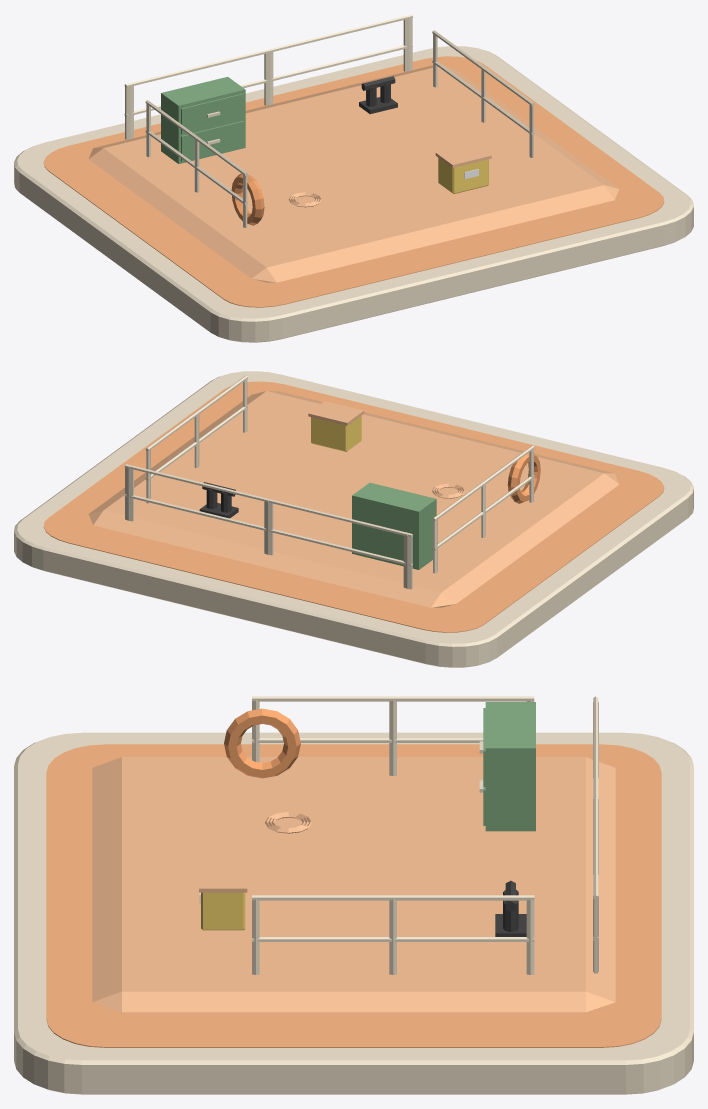
The model's file is room.fbx.
The picture shows the model from 3 angles, top to bottom: view 1: azimuth 30°, elevation 25°; view 2: azimuth 150°, elevation 25°; view 3: azimuth 270°, elevation 25°; orthographic projection. The views are drawn at different scales.
Parts seen in each view (by area): view 1: Deck, COM-01 Rounded Base Direct, COM-02 Floor Surface, Cabinet, Box, Rail.005, Life ring, Lid, Rail.004, Rail.003, Rail.001, Rail.002 (+3 smaller); view 2: Deck, COM-01 Rounded Base Direct, COM-02 Floor Surface, Cabinet, Box, Rail.005, Rail.004, Life ring, Lid, Rail.001, Rail.003, Rail (+4 smaller); view 3: Deck, COM-01 Rounded Base Direct, COM-02 Floor Surface, Cabinet, Life ring, Box, Rail.001, Rail.003, Lid, Rail.002, Rail.005, Rail (+1 smaller).
Part boxes in pixels (x1,y1,x2,y2): Deck: (88,65,619,282); COM-01 Rounded Base Direct: (14,46,693,342); COM-02 Floor Surface: (43,56,664,307); Cabinet: (161,76,245,163); Box: (438,158,488,193); Rail.005: (124,14,412,87); Life ring: (231,173,264,225); Lid: (435,143,491,167); Rail.004: (124,44,412,116); Rail.003: (432,30,534,106); Rail.001: (145,100,247,176); Rail.002: (432,60,534,135); Deck: (88,391,619,607); COM-01 Rounded Base Direct: (14,371,693,667); COM-02 Floor Surface: (43,381,664,632); Cabinet: (352,482,436,569); Box: (311,415,361,451); Rail.005: (124,464,412,537); Rail.004: (124,494,412,566); Life ring: (507,453,540,503); Lid: (308,401,364,425); Rail.001: (432,445,534,521); Rail.003: (145,375,247,451); Rail: (432,475,534,550); Deck: (92,757,615,1012); COM-01 Rounded Base Direct: (14,732,693,1094); COM-02 Floor Surface: (46,744,661,1047); Cabinet: (479,702,535,831); Life ring: (224,708,300,778); Box: (201,892,245,930); Rail.001: (252,696,534,701); Rail.003: (252,895,534,900); Lid: (199,861,247,892); Rail.002: (252,937,534,941); Rail.005: (593,696,598,900); Rail: (252,738,483,742).
Size of the model in its own units: 600 by 118 by 520.
